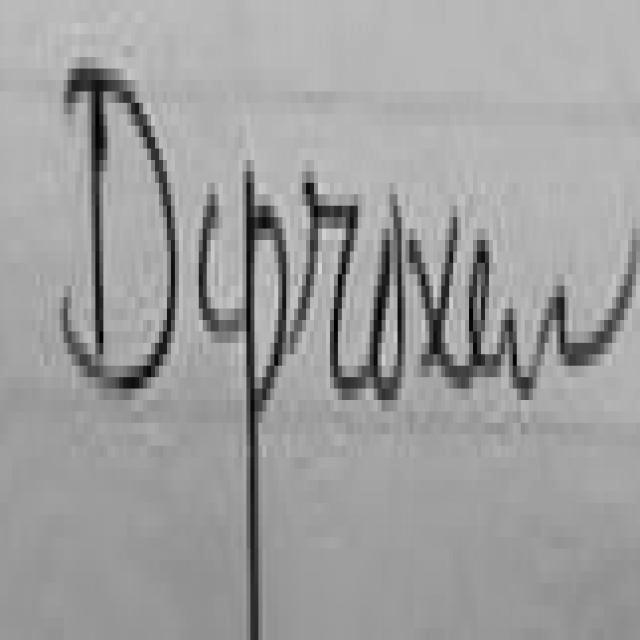D: (64, 69, 179, 389)
e: (199, 194, 246, 343), (473, 240, 505, 377)
n: (497, 240, 640, 400)
o: (369, 221, 405, 412)
p: (246, 171, 290, 634)
r: (294, 183, 370, 400)
x: (409, 217, 471, 393)
